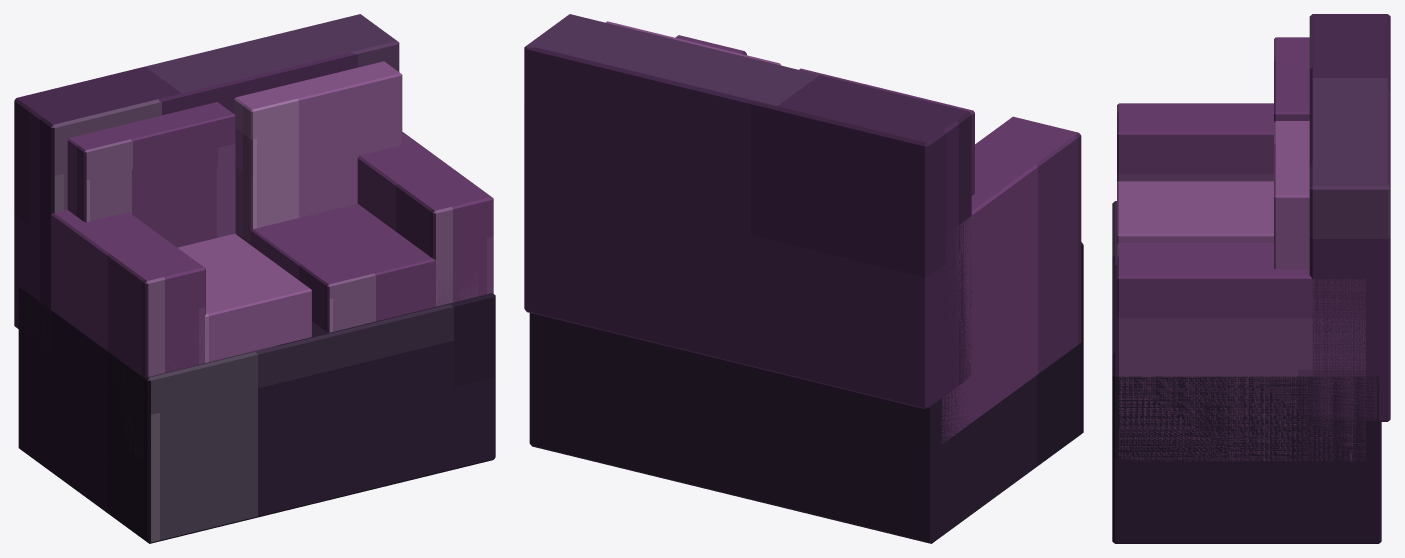
Rendered from lounge_couch_violet.glb.
3 renders of one model, left to right at view 1: azimuth 30°, elevation 25°; view 2: azimuth 150°, elevation 25°; view 3: azimuth 270°, elevation 25°, orthographic. The views are drawn at different scales.
Visible parts, largest first — view 1: CouchBase, CouchBack, BackCushion_2, CouchArm_L, BackCushion_1, SeatCushion_2, CouchArm_R, SeatCushion_1; view 2: CouchBack, CouchBase, CouchArm_L, BackCushion_1; view 3: CouchBase, CouchArm_R, CouchBack, CouchArm_L, SeatCushion_1, BackCushion_2, BackCushion_1, SeatCushion_2.
Boxes of the visible parts, x1,y1,x2,y2 form: CouchBase: (18, 286, 495, 543); CouchBack: (14, 14, 399, 349); BackCushion_2: (234, 61, 402, 242); CouchArm_L: (51, 210, 205, 459); BackCushion_1: (67, 102, 235, 247); SeatCushion_2: (237, 203, 477, 332); CouchArm_R: (357, 132, 493, 306); SeatCushion_1: (178, 233, 311, 362); CouchBack: (524, 14, 971, 409); CouchBase: (529, 242, 1083, 543); CouchArm_L: (941, 116, 1081, 443); BackCushion_1: (799, 68, 974, 195); CouchBase: (1112, 201, 1381, 543); CouchArm_R: (1117, 247, 1365, 461); CouchBack: (1309, 14, 1390, 421); CouchArm_L: (1117, 103, 1273, 181); SeatCushion_1: (1117, 181, 1273, 243); BackCushion_2: (1274, 121, 1309, 269); BackCushion_1: (1274, 37, 1309, 121); SeatCushion_2: (1117, 243, 1273, 248).
Size of the model in its own units: 0.92 by 0.91 by 0.62.
1 material, 1 textured.
